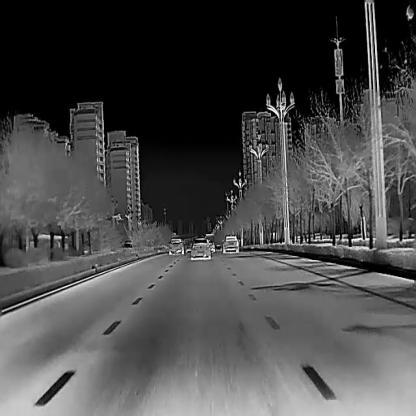car: (189, 236, 211, 260), (221, 233, 239, 253), (167, 237, 185, 255), (215, 243, 221, 251), (185, 245, 191, 253)
